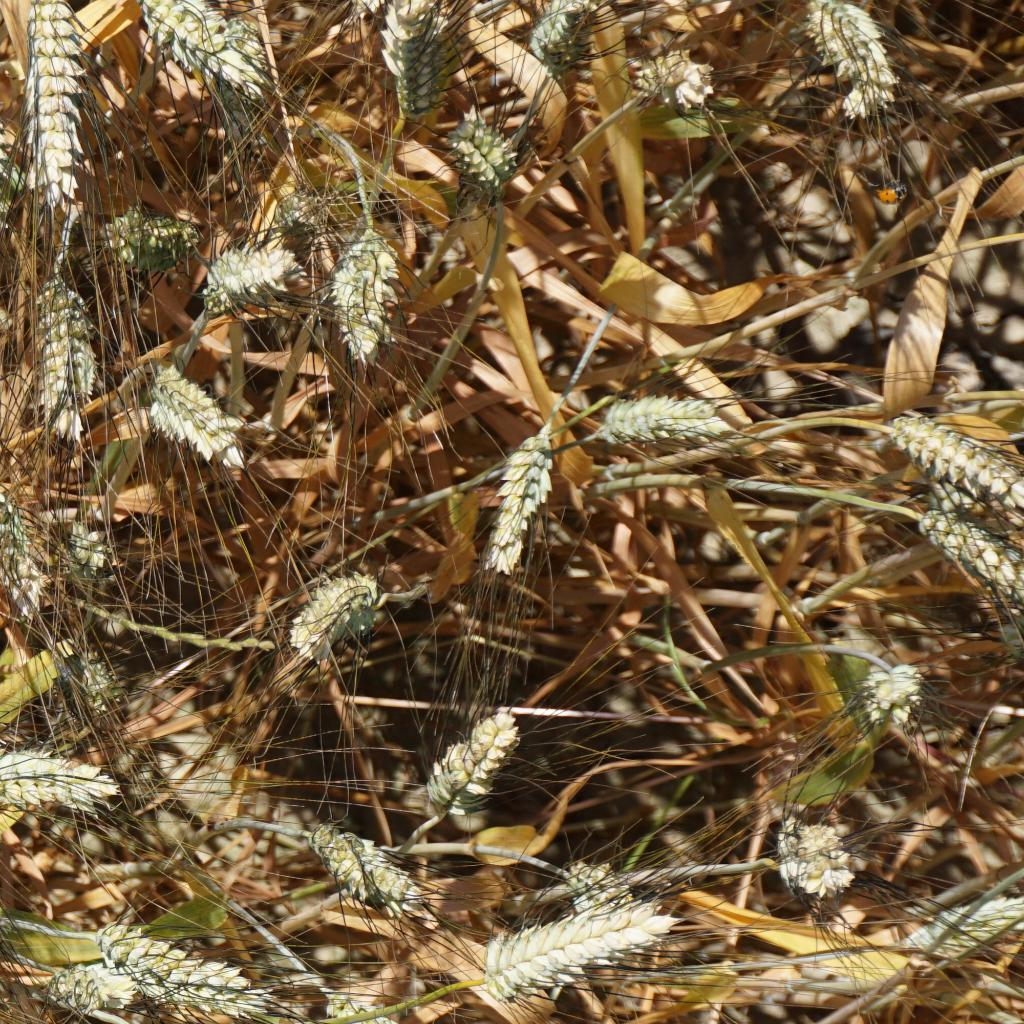0-0: (473, 889, 689, 1007), (874, 399, 1019, 500), (22, 272, 100, 443), (135, 0, 268, 95), (923, 497, 1022, 620), (791, 0, 897, 109), (17, 0, 73, 206), (483, 412, 553, 563), (328, 220, 399, 359), (367, 1, 444, 129), (0, 728, 105, 819), (312, 820, 415, 912), (598, 385, 729, 456), (769, 806, 868, 897), (201, 240, 310, 316), (135, 950, 256, 1016), (0, 477, 55, 618), (288, 572, 372, 662), (440, 111, 524, 197), (155, 368, 231, 460), (432, 720, 517, 802), (567, 850, 649, 927), (320, 979, 453, 1024), (634, 39, 719, 106), (860, 645, 931, 722), (903, 455, 979, 523), (102, 911, 201, 961), (526, 0, 595, 68), (217, 18, 265, 115), (58, 503, 113, 585), (54, 960, 124, 1014), (267, 184, 324, 250), (115, 203, 180, 260), (0, 956, 35, 1024)
